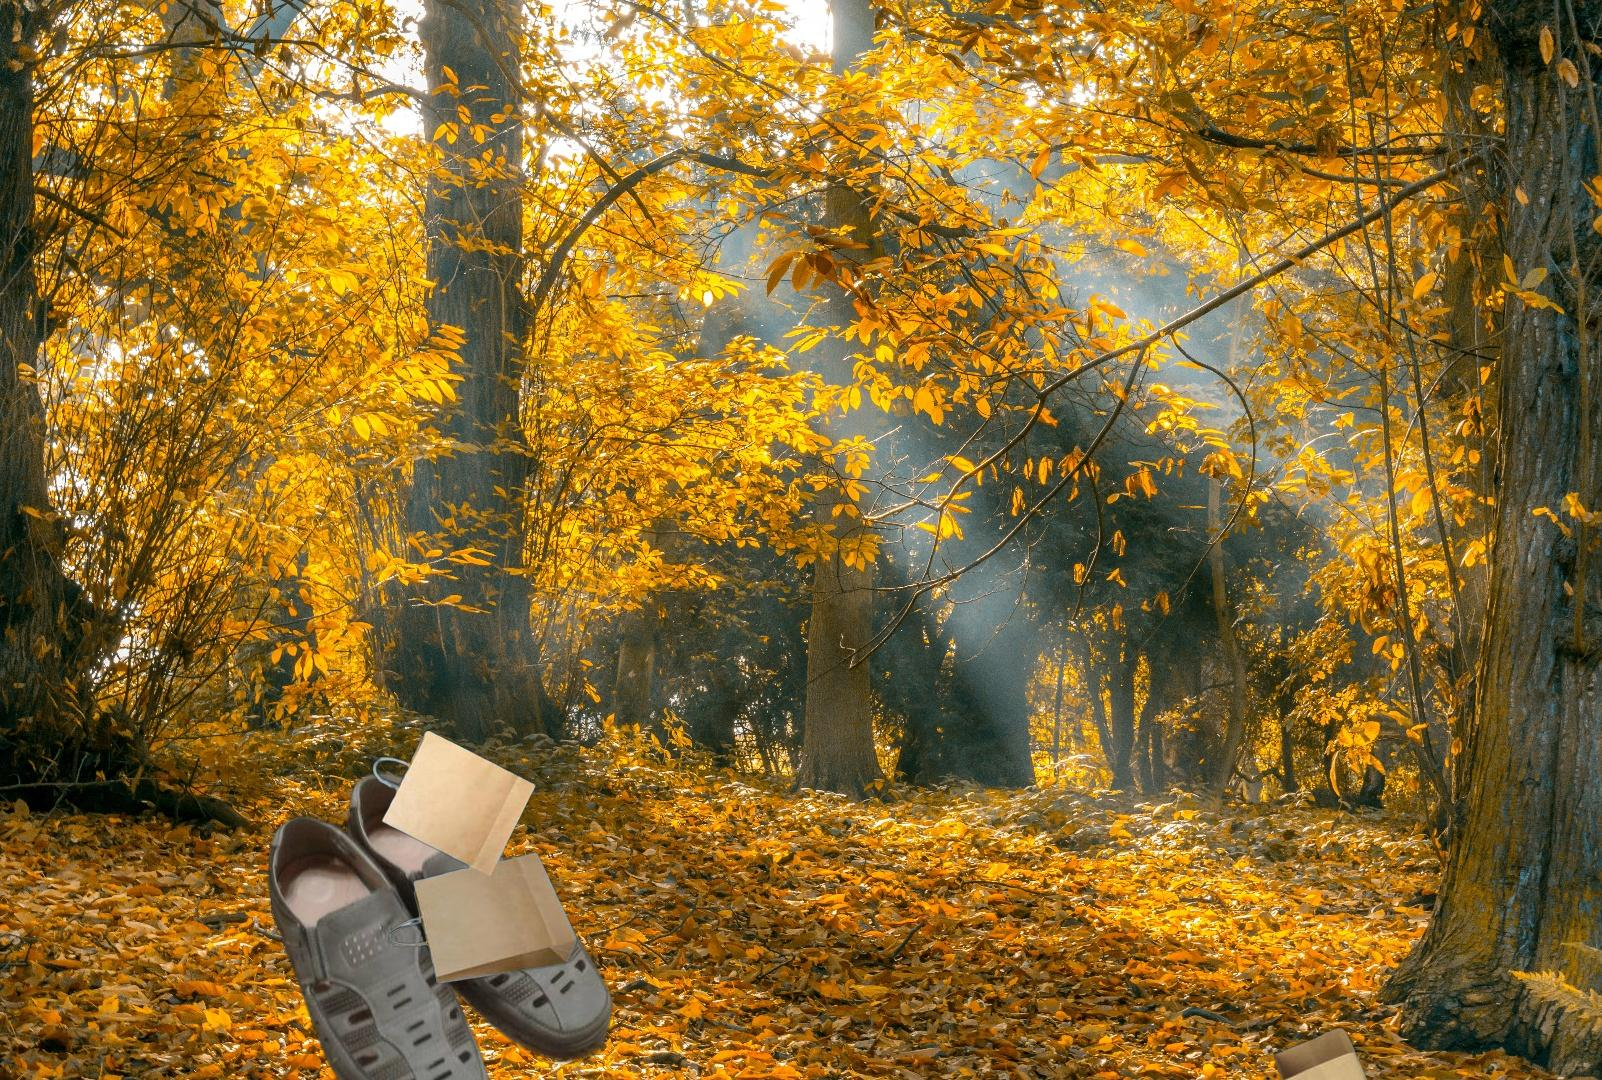paper-bag: (371, 729, 579, 985), (1223, 987, 1421, 1080)
shoes: (265, 768, 615, 1080)
